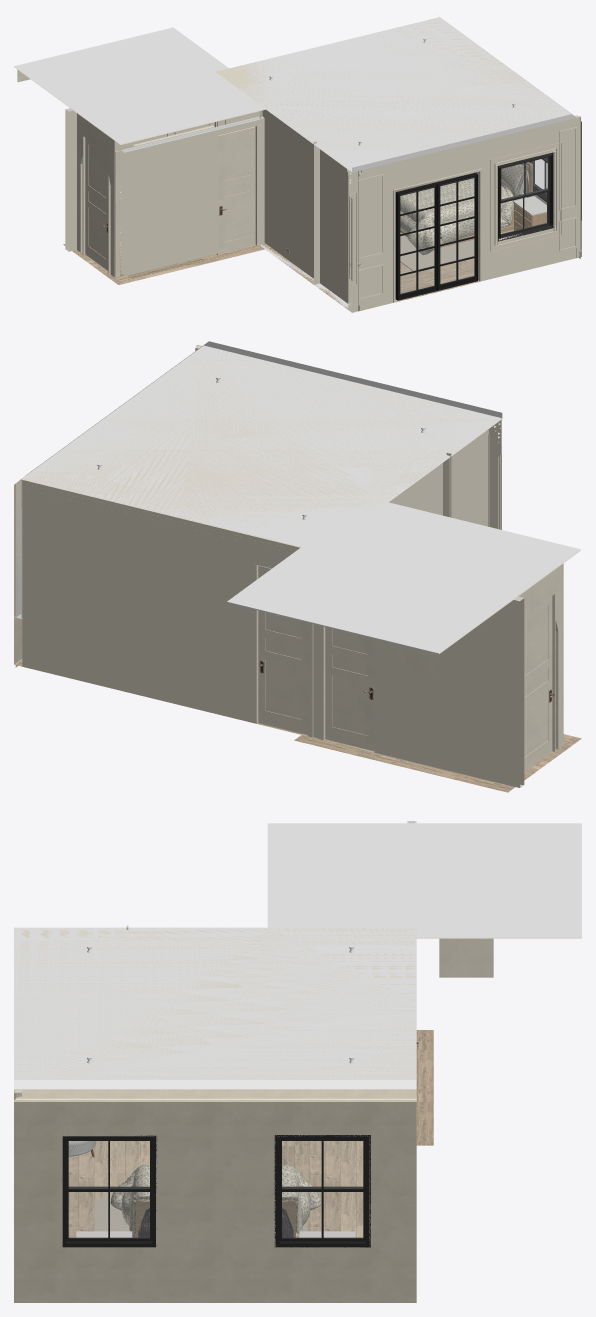
Rendered from primary-bedroom-40df6485052c.glb.
3 views of the same model, one above another, from view 1: azimuth 30°, elevation 25°; view 2: azimuth 150°, elevation 25°; view 3: azimuth 270°, elevation 25° (orthographic). The views are drawn at different scales.
Visible parts, largest first — view 1: primary-bedroom-9d91b47435c6fb33, primary-bedroom-b0ade14315e4f1c3, primary-bedroom-look-9d91b47435c6fb33, primary-bedroom-look-9ecc0d558be1c706, primary-bedroom-e8793759323e04f0, primary-bedroom-fc6585fecfaf7ec3, primary-bedroom-look-18f70a4a9eda5dac, primary-bedroom-42fce09358828e49, primary-bedroom-d70d42a253f78e60, primary-bedroom-e1735639a83d20d7, primary-bedroom-c791a0f218fead78, primary-bedroom-look-6c54e09c161b5848 (+19 smaller); view 2: primary-bedroom-9d91b47435c6fb33, primary-bedroom-21ac2ed1b4475155, primary-bedroom-e8793759323e04f0, primary-bedroom-look-9d91b47435c6fb33, primary-bedroom-look-21ac2ed1b4475155, primary-bedroom-b7a870a0f6b43c8c, primary-bedroom-look-6d601da8073fdc0e, primary-bedroom-look-6c54e09c161b5848, primary-bedroom-c791a0f218fead78, primary-bedroom-look-e48b5483df8cacdb, primary-bedroom-look-2575515a05775d9e, primary-bedroom-fc6585fecfaf7ec3 (+6 smaller); view 3: primary-bedroom-9d91b47435c6fb33, primary-bedroom-adb6f49a6d2cbec3, primary-bedroom-look-9d91b47435c6fb33, primary-bedroom-e8793759323e04f0, primary-bedroom-16d9002bc6318568, primary-bedroom-91f952a1d198b4a4, primary-bedroom-2575515a05775d9e, primary-bedroom-f5a37a5545b9d676, primary-bedroom-791abe15be22adf2, primary-bedroom-look-95b94d4b81cfb474, primary-bedroom-look-2575515a05775d9e, primary-bedroom-b29583548b72a1ea (+4 smaller).
Boxes of the visible parts, x1,y1,x2,y2 form: primary-bedroom-9d91b47435c6fb33: (234,17,575,172); primary-bedroom-b0ade14315e4f1c3: (348,116,580,312); primary-bedroom-look-9d91b47435c6fb33: (14,27,265,144); primary-bedroom-look-9ecc0d558be1c706: (121,117,259,276); primary-bedroom-e8793759323e04f0: (215,15,575,171); primary-bedroom-fc6585fecfaf7ec3: (259,109,319,284); primary-bedroom-look-18f70a4a9eda5dac: (218,126,255,253); primary-bedroom-42fce09358828e49: (438,174,477,290); primary-bedroom-d70d42a253f78e60: (398,184,437,300); primary-bedroom-e1735639a83d20d7: (498,152,553,241); primary-bedroom-c791a0f218fead78: (314,148,358,312); primary-bedroom-look-6c54e09c161b5848: (82,135,110,272); primary-bedroom-9d91b47435c6fb33: (21,345,502,551); primary-bedroom-21ac2ed1b4475155: (22,480,320,739); primary-bedroom-e8793759323e04f0: (22,341,502,536); primary-bedroom-look-9d91b47435c6fb33: (227,502,580,654); primary-bedroom-look-21ac2ed1b4475155: (320,596,524,787); primary-bedroom-b7a870a0f6b43c8c: (258,565,307,734); primary-bedroom-look-6d601da8073fdc0e: (325,627,374,750); primary-bedroom-look-6c54e09c161b5848: (524,592,555,771); primary-bedroom-c791a0f218fead78: (443,426,491,526); primary-bedroom-look-e48b5483df8cacdb: (518,563,563,749); primary-bedroom-look-2575515a05775d9e: (294,734,581,792); primary-bedroom-fc6585fecfaf7ec3: (388,457,449,515); primary-bedroom-9d91b47435c6fb33: (14,927,416,1089); primary-bedroom-adb6f49a6d2cbec3: (14,1100,416,1247); primary-bedroom-look-9d91b47435c6fb33: (267,823,581,938); primary-bedroom-e8793759323e04f0: (14,927,416,1088); primary-bedroom-16d9002bc6318568: (15,1248,416,1300); primary-bedroom-91f952a1d198b4a4: (274,1135,370,1247); primary-bedroom-2575515a05775d9e: (14,1141,416,1302); primary-bedroom-f5a37a5545b9d676: (62,1135,157,1247); primary-bedroom-791abe15be22adf2: (14,1089,416,1098); primary-bedroom-look-95b94d4b81cfb474: (439,938,493,977); primary-bedroom-look-2575515a05775d9e: (416,1030,433,1145); primary-bedroom-b29583548b72a1ea: (125,1165,304,1237).
Size of the model in its own units: 8.2 by 3.04 by 7.21.
44 materials, 12 textured.
